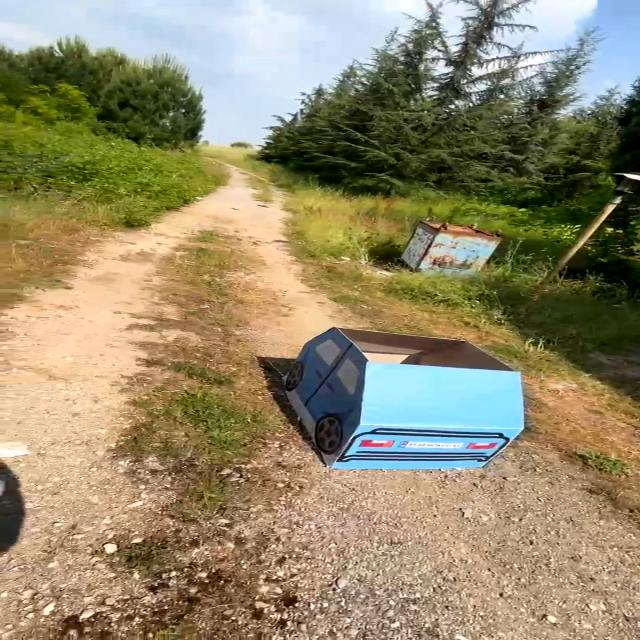blue_car: (258, 307, 536, 502)
